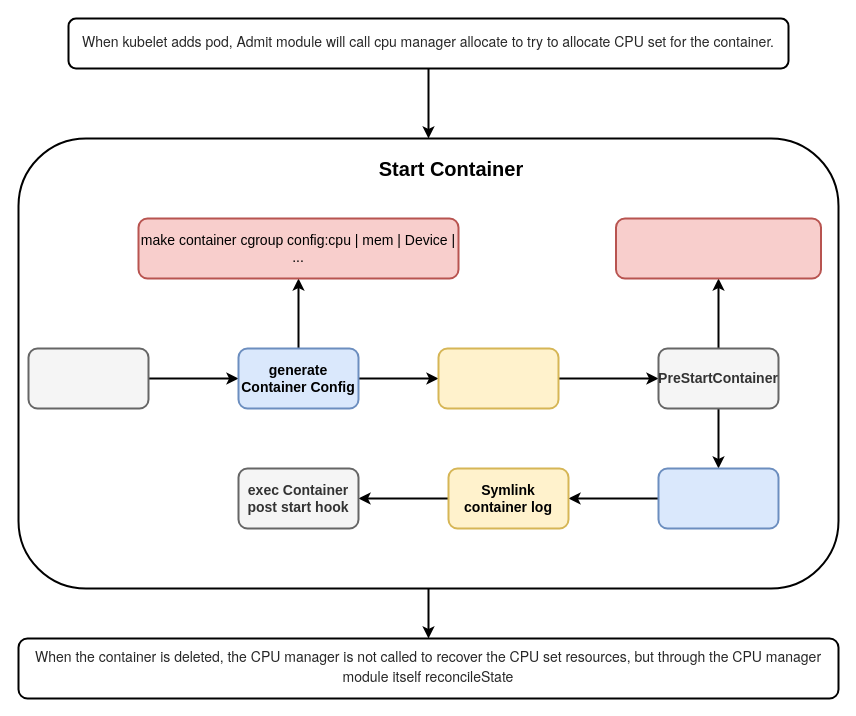
Image size: 856x716. Some labels were removed from this diagram. Each missing label, with the centre of its shape:
call：cpuManager if enable TopologyManager call TopologyManager: (x=718, y=248)
Create Container: (x=498, y=378)
Pull Image: (x=88, y=378)
StartContiner: (x=718, y=498)
